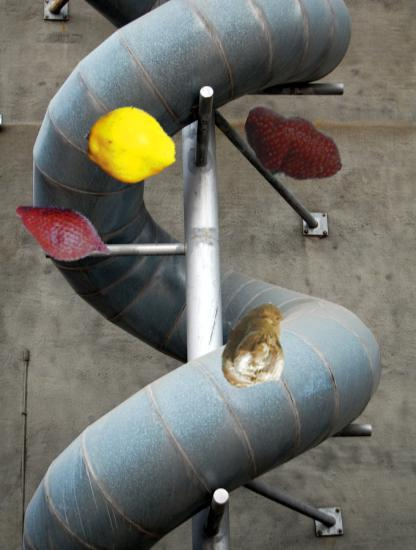Ginger: (212, 301, 305, 394)
Quince: (83, 98, 178, 193)
Salak: (9, 180, 117, 288)
Strawberry: (240, 96, 345, 201)
